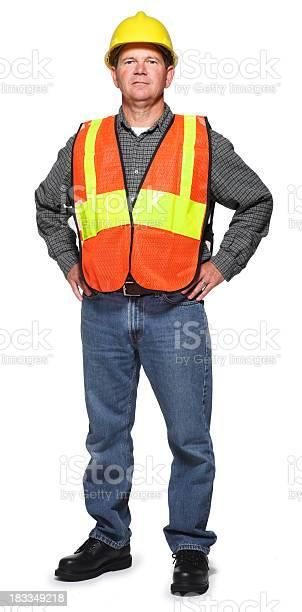hat: (88, 1, 203, 98)
vest: (58, 94, 251, 319)
